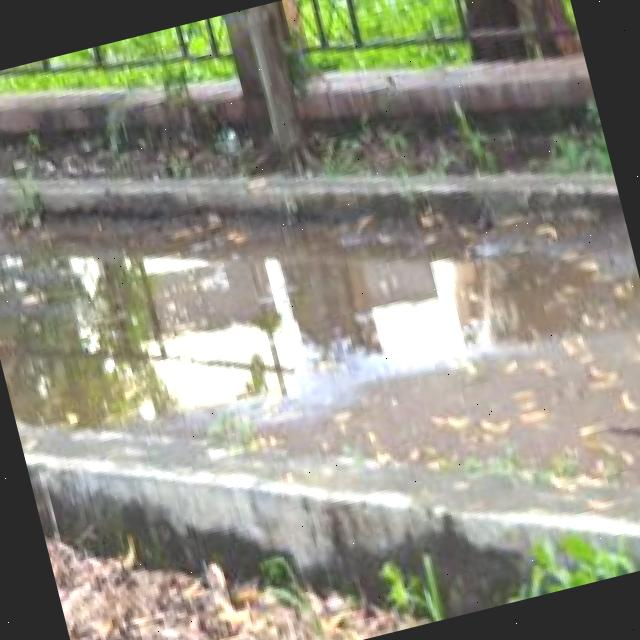waterlogging: (0, 99, 635, 515)
